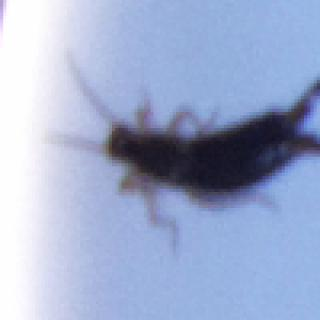earwig: (14, 39, 320, 252)
